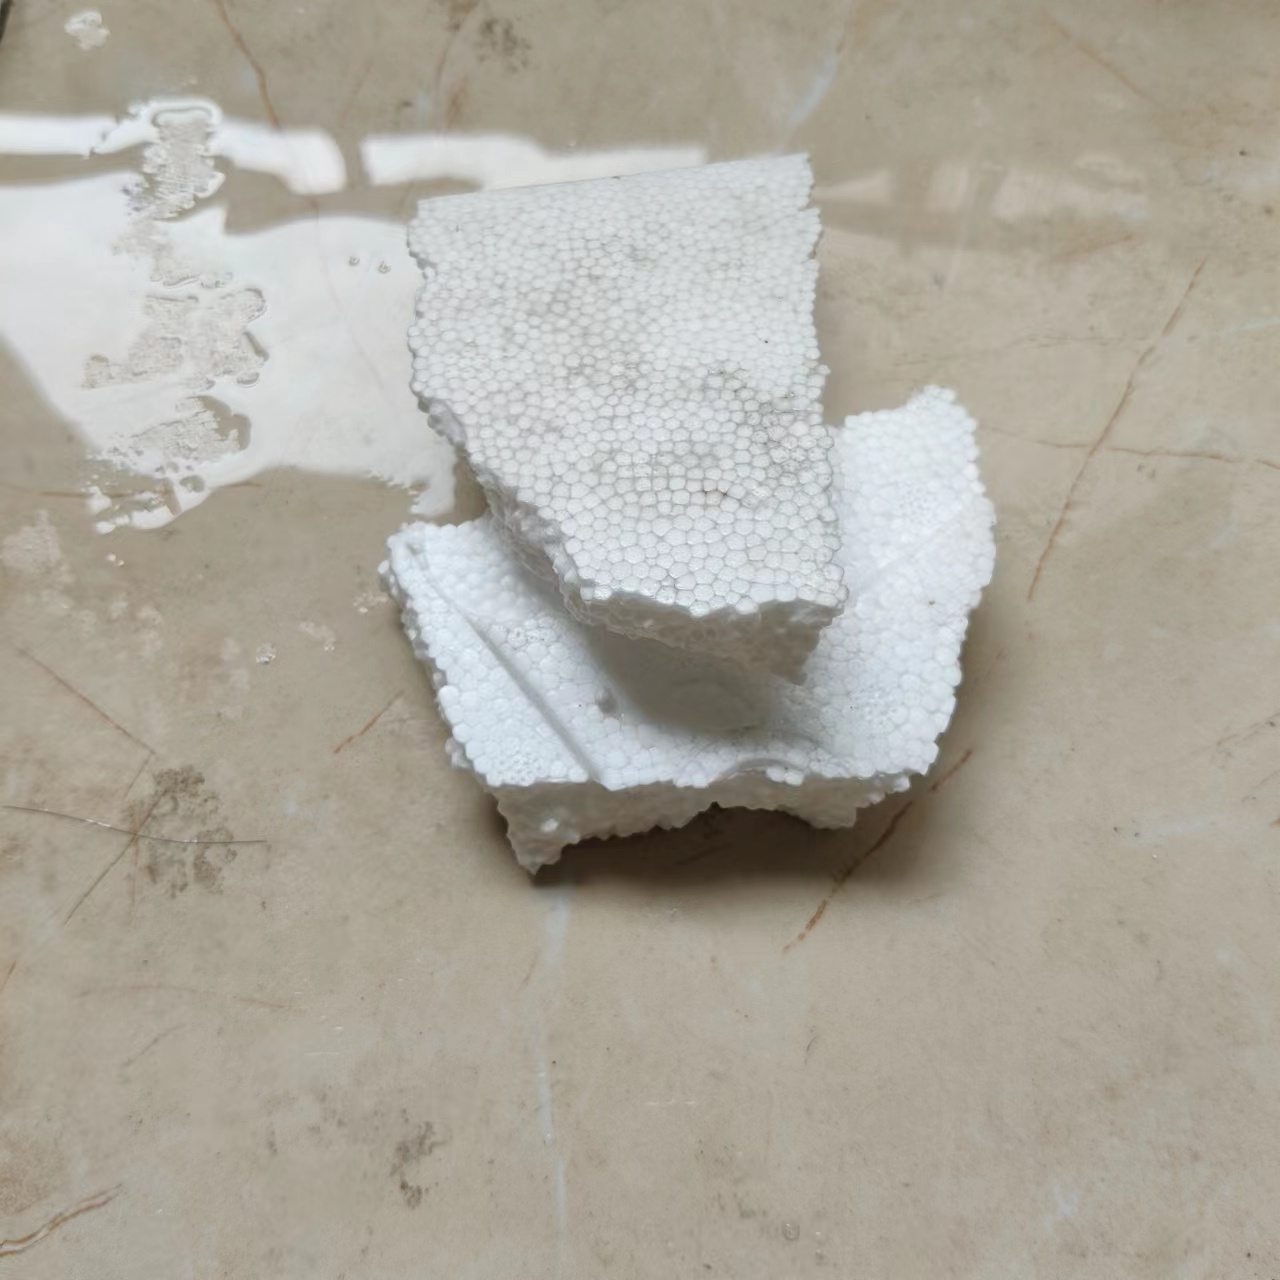5/可回收垃圾/泡沫: (376, 384, 999, 876), (406, 151, 849, 688)
